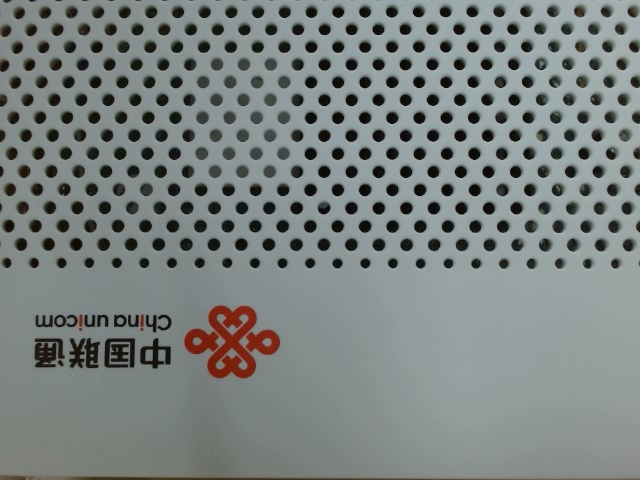AD_ChinaUnicom: (32, 302, 292, 386)
